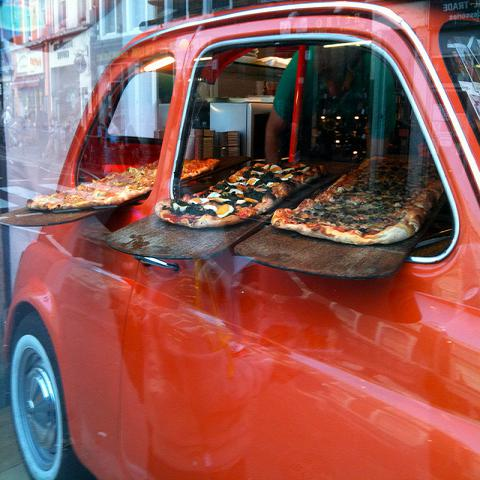car: (7, 2, 476, 473)
